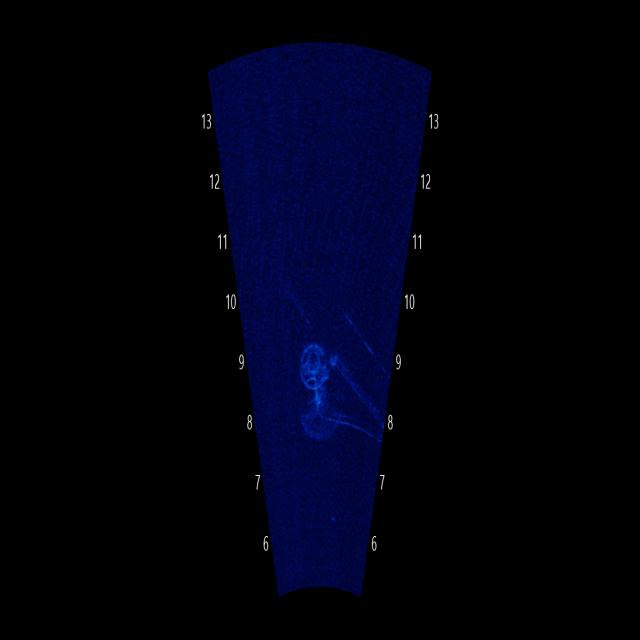circle: (287, 307, 349, 403)
